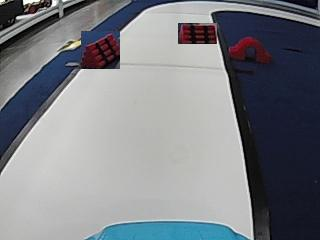bridge: (229, 35, 270, 62)
